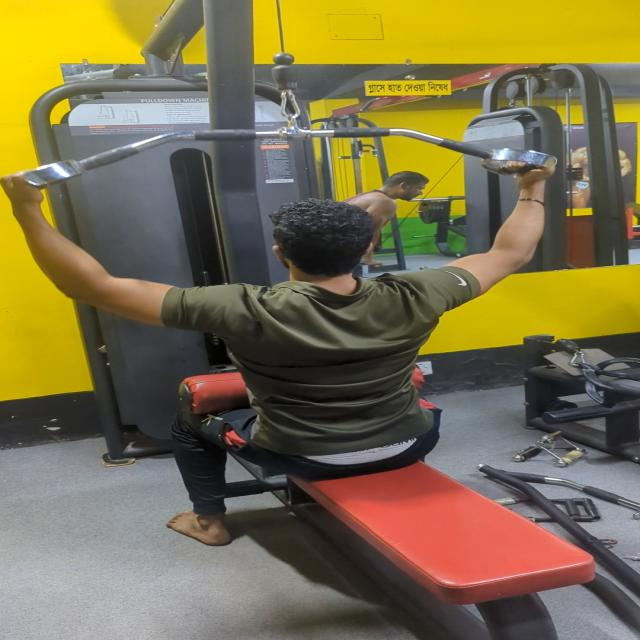Normal_LatPulldown: (0, 88, 640, 561)
